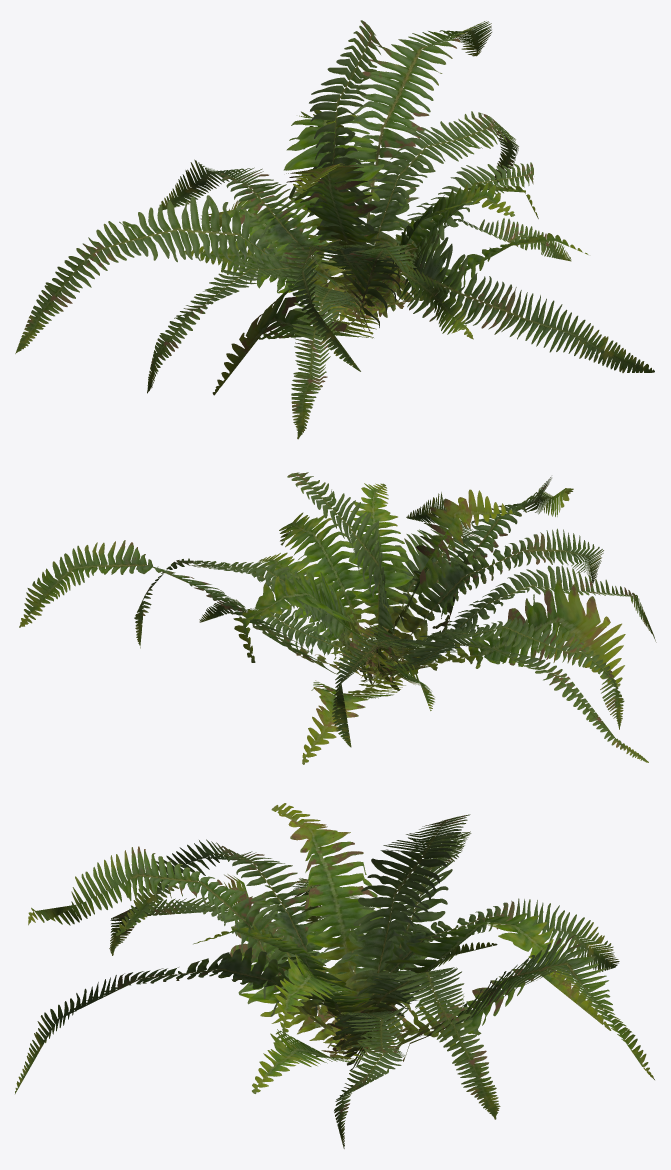
3 renders of one model, top to bottom at view 1: azimuth 30°, elevation 25°; view 2: azimuth 150°, elevation 25°; view 3: azimuth 270°, elevation 25°, orthographic. The views are drawn at different scales.
Parts seen in each view (by area): view 1: fern_02_b; view 2: fern_02_b; view 3: fern_02_b.
Boxes of the visible parts, bbox=[...] form: fern_02_b: bbox=[15, 20, 654, 439]; fern_02_b: bbox=[19, 472, 656, 764]; fern_02_b: bbox=[15, 803, 654, 1148].
Size of the model in its own units: 0.989 by 0.4246 by 0.873.
1 material, 1 textured.
